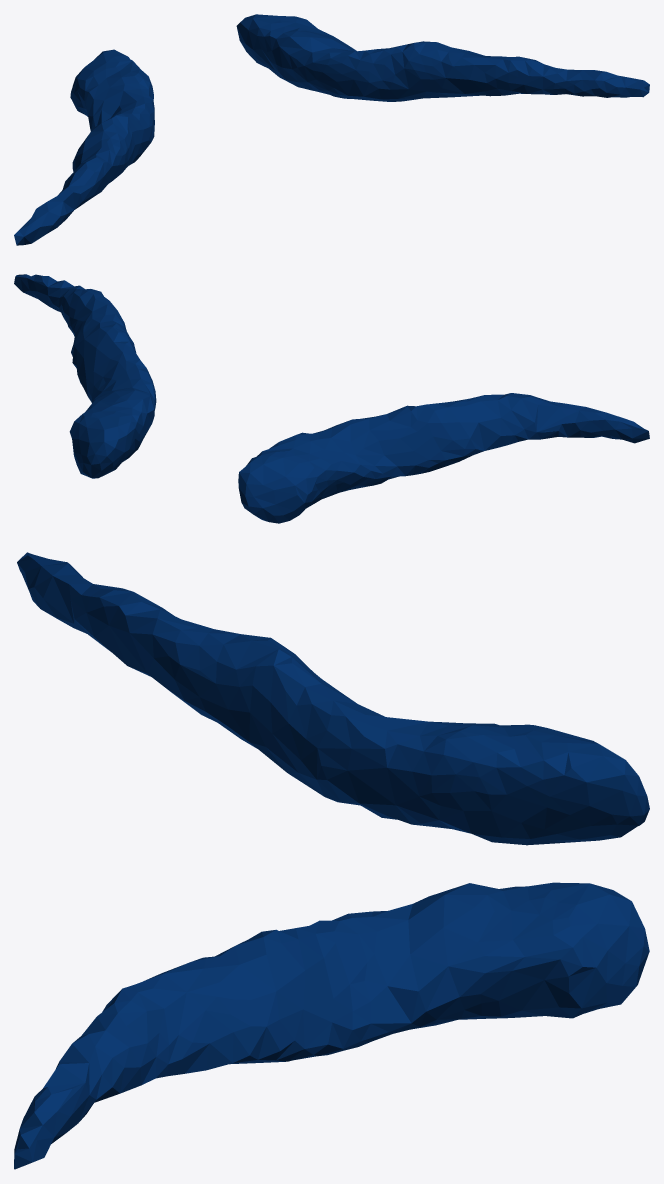
Rendered from 37-DIP-depth intraparietal area-('0.0000', '0.2275', '0.4980').obj.
3 renders of one model, top to bottom at view 1: azimuth 30°, elevation 25°; view 2: azimuth 150°, elevation 25°; view 3: azimuth 270°, elevation 25°, orthographic. The views are drawn at different scales.
Size of the model in its own units: 233 by 24.95 by 105.
